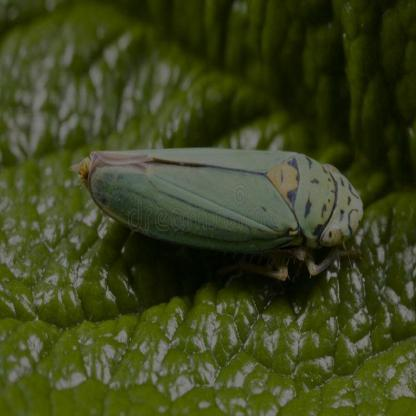green-leafhopper: (80, 138, 363, 276)
